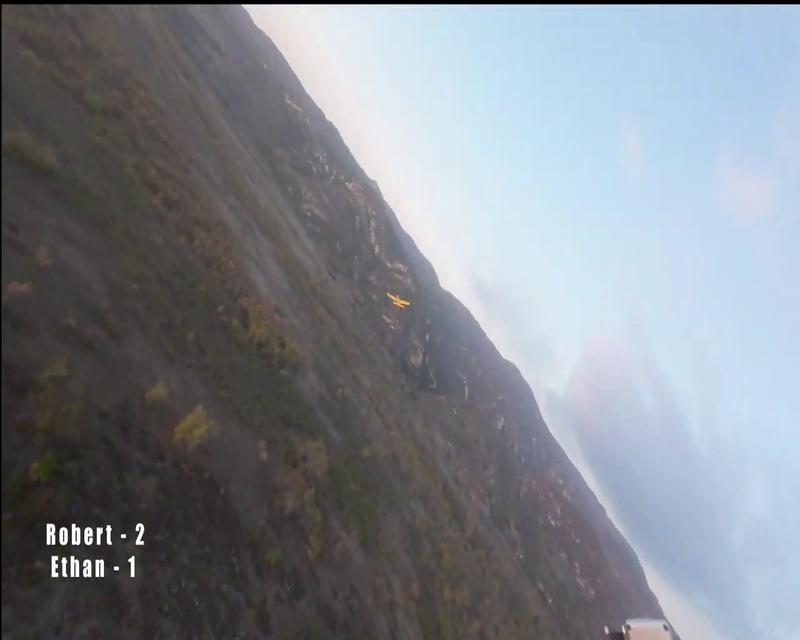UAV: (387, 291, 411, 310)
